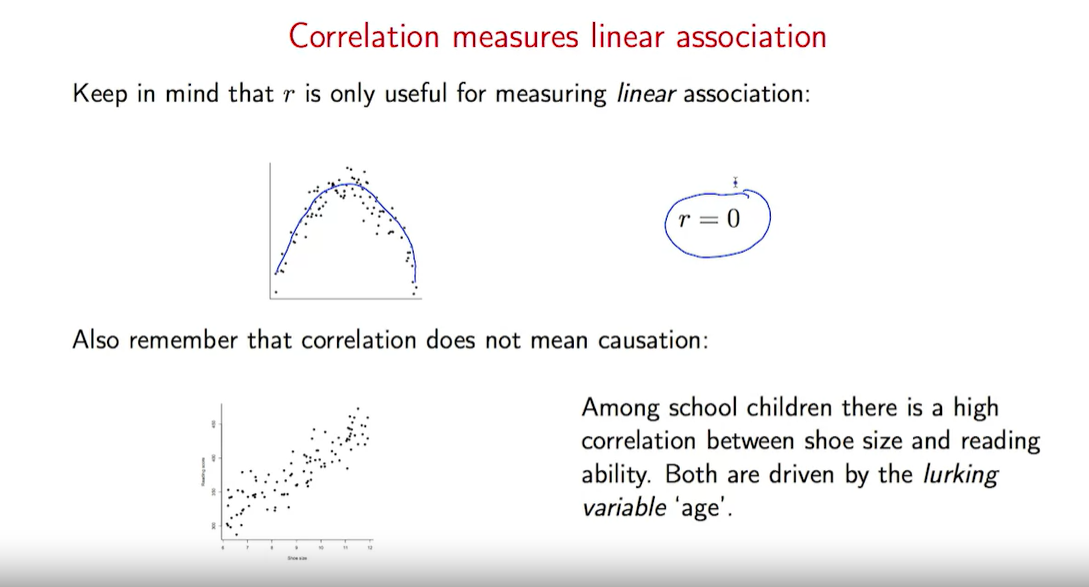equation: (667, 202, 765, 238)
figure: (197, 392, 387, 561), (265, 154, 427, 309)
text: (576, 396, 1044, 524), (283, 17, 831, 59), (70, 81, 812, 111), (70, 321, 713, 355)
